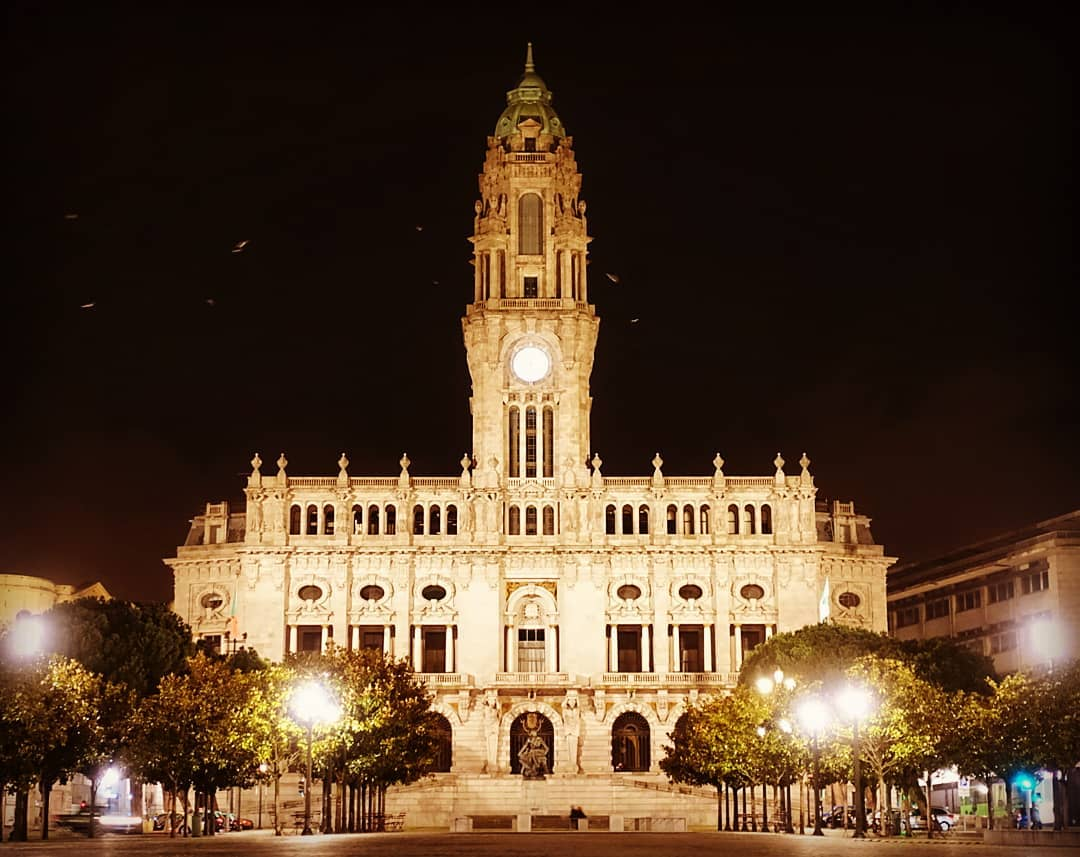camara: (162, 38, 903, 824)
